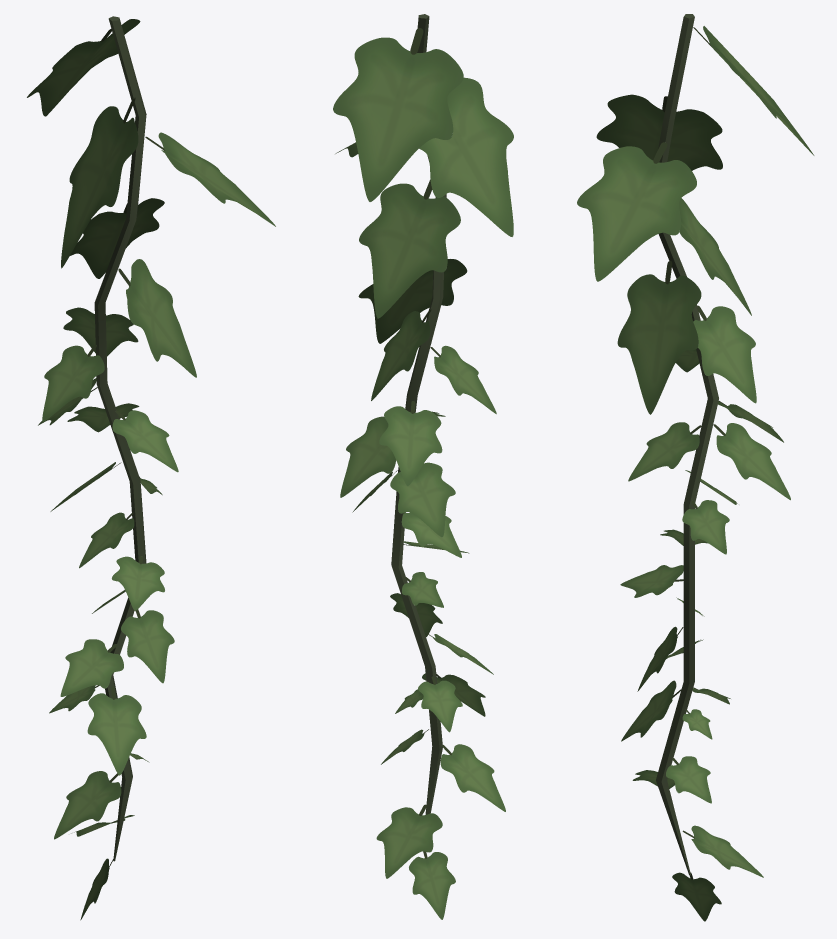
Rendered from HangingIvy.fbx.
3 views of the same model, side by side, from view 1: azimuth 30°, elevation 25°; view 2: azimuth 150°, elevation 25°; view 3: azimuth 270°, elevation 25° (orthographic). The views are drawn at different scales.
Parts seen in each view (by area): view 1: pCylinder2, pPlane17, pPlane20, pPlane5, pPlane19, pPlane16, pPlane22, pPlane18, pPlane9, pPlane8, pPlane3, pPlane24 (+4 smaller); view 2: pPlane16, pPlane17, pPlane19, pCylinder2, pPlane23, pPlane1, pPlane14, pPlane20, pPlane15, pPlane21, pPlane3, pPlane2 (+6 smaller); view 3: pPlane18, pCylinder2, pPlane20, pPlane17, pPlane21, pPlane15, pPlane19, pPlane24, pPlane13, pPlane16, pPlane4, pPlane1 (+4 smaller).
Part boxes in pixels (x1,y1,x2,y2): pCylinder2: (94, 16, 146, 861); pPlane17: (61, 97, 138, 268); pPlane20: (118, 259, 196, 377); pPlane5: (87, 686, 146, 775); pPlane19: (70, 198, 164, 278); pPlane16: (27, 19, 140, 116); pPlane22: (42, 344, 104, 421); pPlane18: (145, 132, 275, 226); pPlane9: (121, 609, 174, 683); pPlane8: (60, 639, 123, 696); pPlane3: (54, 771, 121, 839); pPlane24: (112, 410, 178, 472); pPlane16: (333, 28, 463, 201); pPlane17: (419, 77, 513, 236); pPlane19: (359, 179, 460, 318); pCylinder2: (391, 14, 446, 814); pPlane23: (379, 401, 442, 486); pPlane1: (376, 804, 442, 878); pPlane14: (390, 462, 455, 537); pPlane20: (358, 259, 467, 343); pPlane15: (340, 416, 396, 497); pPlane21: (371, 309, 431, 400); pPlane3: (440, 744, 505, 811); pPlane2: (409, 851, 455, 919); pPlane18: (577, 142, 696, 281); pCylinder2: (656, 14, 718, 875); pPlane20: (617, 261, 701, 414); pPlane17: (596, 94, 722, 170); pPlane21: (693, 305, 756, 403); pPlane15: (713, 423, 790, 500); pPlane19: (679, 198, 751, 315); pPlane24: (628, 422, 701, 481); pPlane13: (682, 500, 729, 554); pPlane16: (693, 26, 814, 155); pPlane4: (666, 756, 711, 803); pPlane1: (682, 825, 763, 877).
Size of the model in its own units: 0.5185 by 2.19 by 0.5634.
